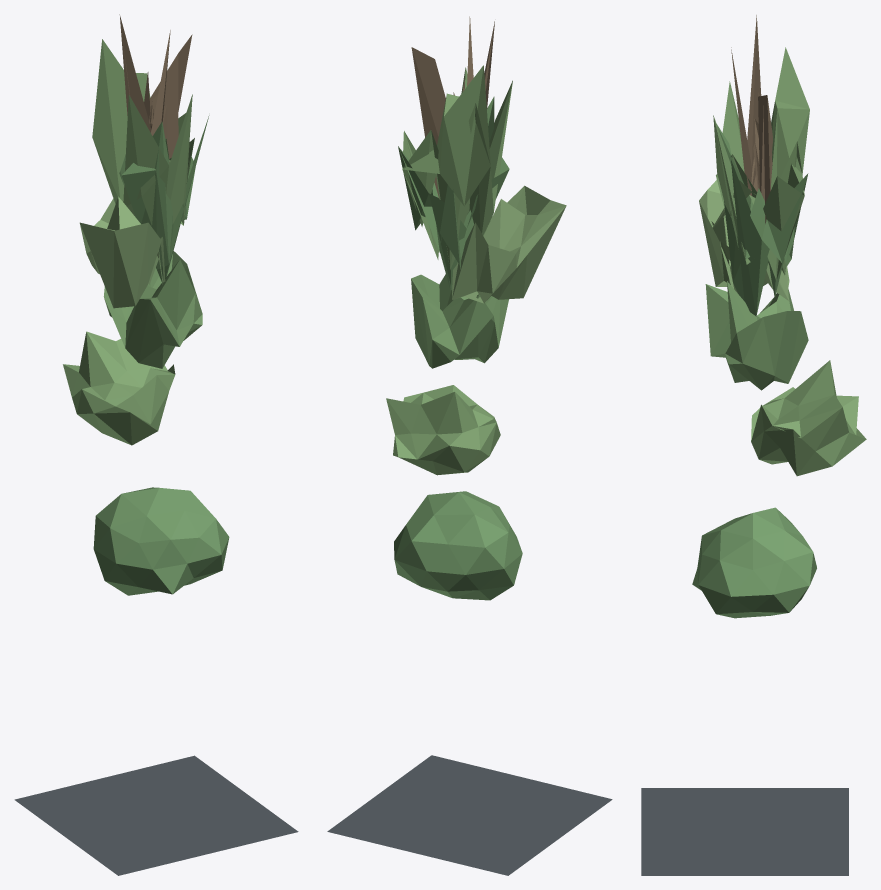
The model's file is pohon_mangga.glb.
3 views of the same model, side by side, from view 1: azimuth 30°, elevation 25°; view 2: azimuth 150°, elevation 25°; view 3: azimuth 270°, elevation 25° (orthographic).
Visible parts, largest first — view 1: main; view 2: main; view 3: main.
Boxes of the visible parts, bbox=[...] form: main: bbox=[14, 14, 298, 875]; main: bbox=[327, 16, 612, 875]; main: bbox=[641, 15, 866, 875].
Size of the model in its own units: 2.6 by 11.08 by 2.82.
